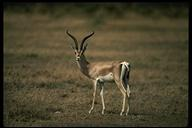antelope: (64, 28, 132, 117)
grass: (134, 26, 188, 124), (6, 82, 86, 125)
